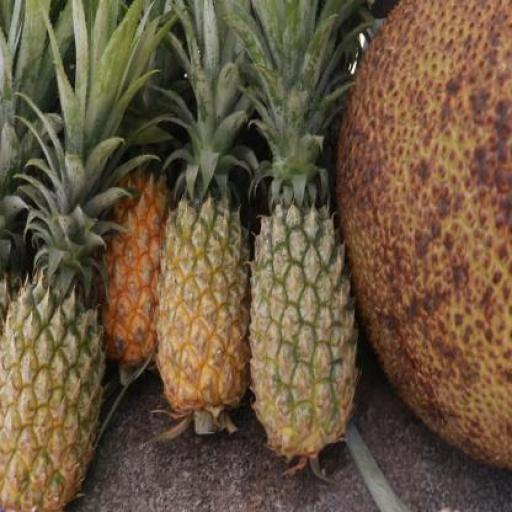------------------------------: (0, 282, 103, 511)
Pineapple - v8 v1: (158, 199, 253, 418), (101, 169, 177, 375)
